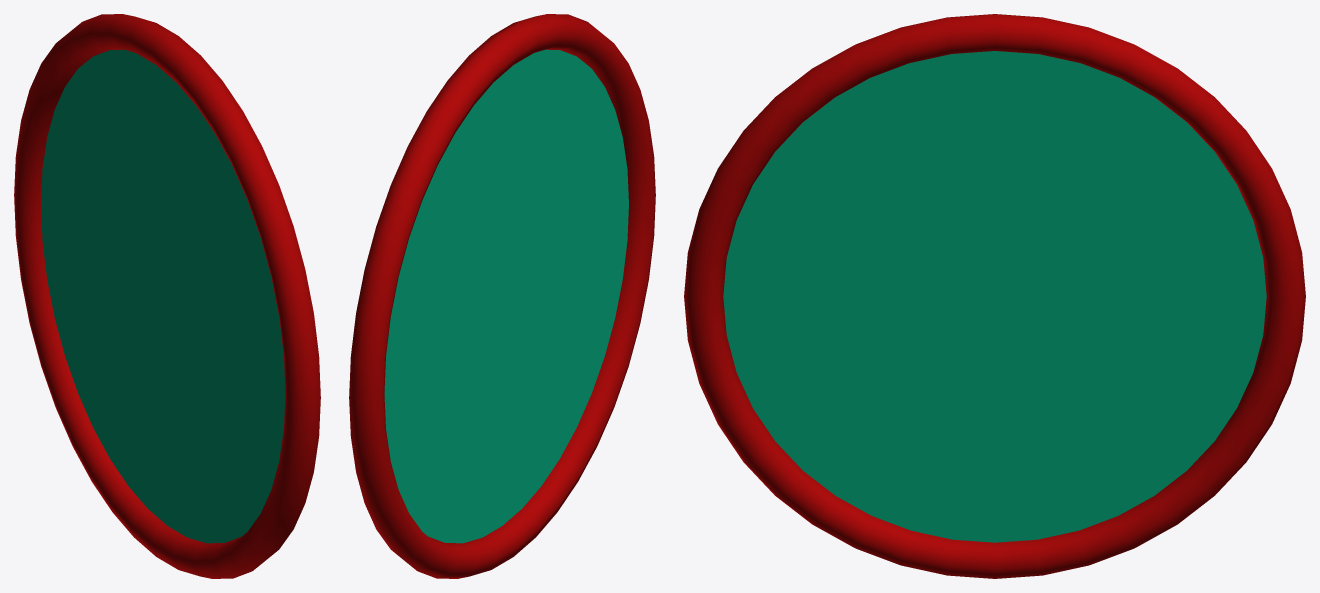
The model's file is SM_WeaponPickup.fbx.
3 renders of one model, left to right at view 1: azimuth 30°, elevation 25°; view 2: azimuth 150°, elevation 25°; view 3: azimuth 270°, elevation 25°, orthographic. The views are drawn at different scales.
Visible parts, largest first — view 1: SM_Hologram, SM_Ring; view 2: SM_Hologram, SM_Ring; view 3: SM_Hologram, SM_Ring.
Part boxes in pixels (x1,y1,x2,y2): SM_Hologram: [41, 49, 285, 543]; SM_Ring: [14, 14, 320, 578]; SM_Hologram: [384, 49, 628, 543]; SM_Ring: [349, 14, 655, 578]; SM_Hologram: [723, 51, 1266, 542]; SM_Ring: [684, 14, 1305, 578].
Bounding box in the file's own units: 0.3777 × 5.98 × 5.98.
